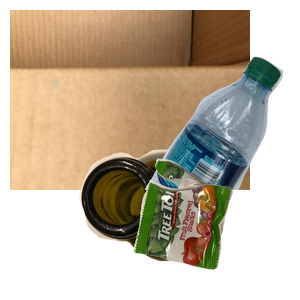cardboard: (10, 10, 250, 190)
glass: (77, 147, 295, 300)
plastic: (142, 54, 300, 234)
trash: (131, 156, 300, 300)
